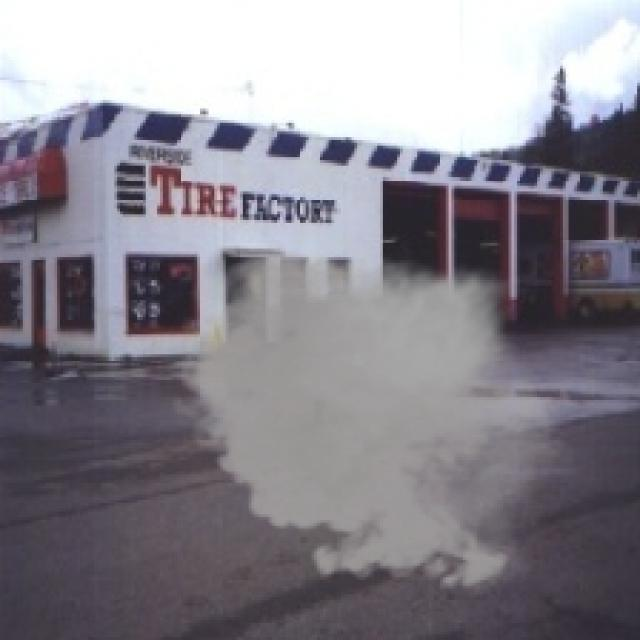Smoke: (162, 237, 574, 600)
